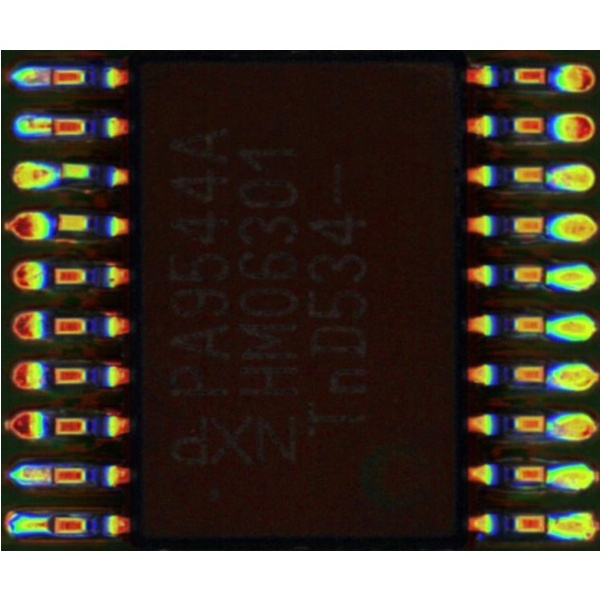Bad_podu: (33, 518, 61, 530), (35, 69, 60, 81), (38, 120, 64, 131), (35, 468, 63, 478)
